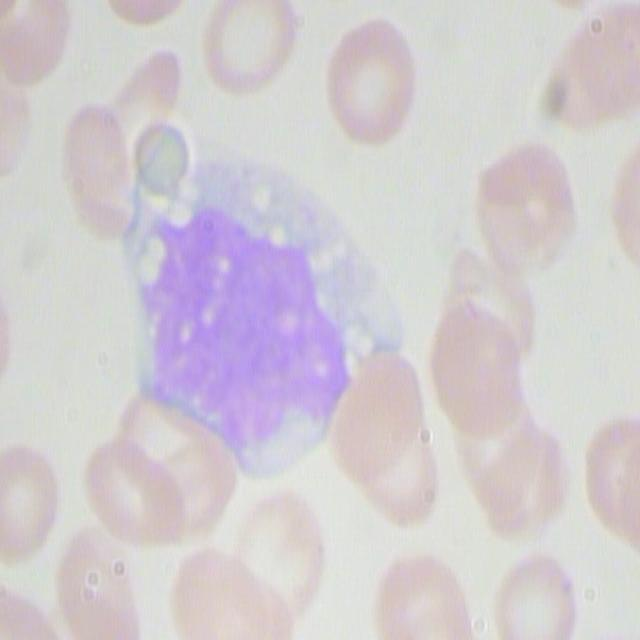RBC: (447, 303, 566, 528), (84, 383, 232, 551), (333, 346, 448, 526), (469, 140, 579, 284), (226, 484, 327, 621), (322, 10, 420, 150), (540, 2, 637, 132), (196, 0, 302, 99), (58, 96, 132, 236), (370, 545, 476, 638), (50, 529, 140, 637), (489, 546, 584, 638), (121, 108, 201, 210), (580, 415, 640, 545), (0, 439, 59, 565), (0, 0, 68, 80)
WBC: (128, 158, 362, 478)
